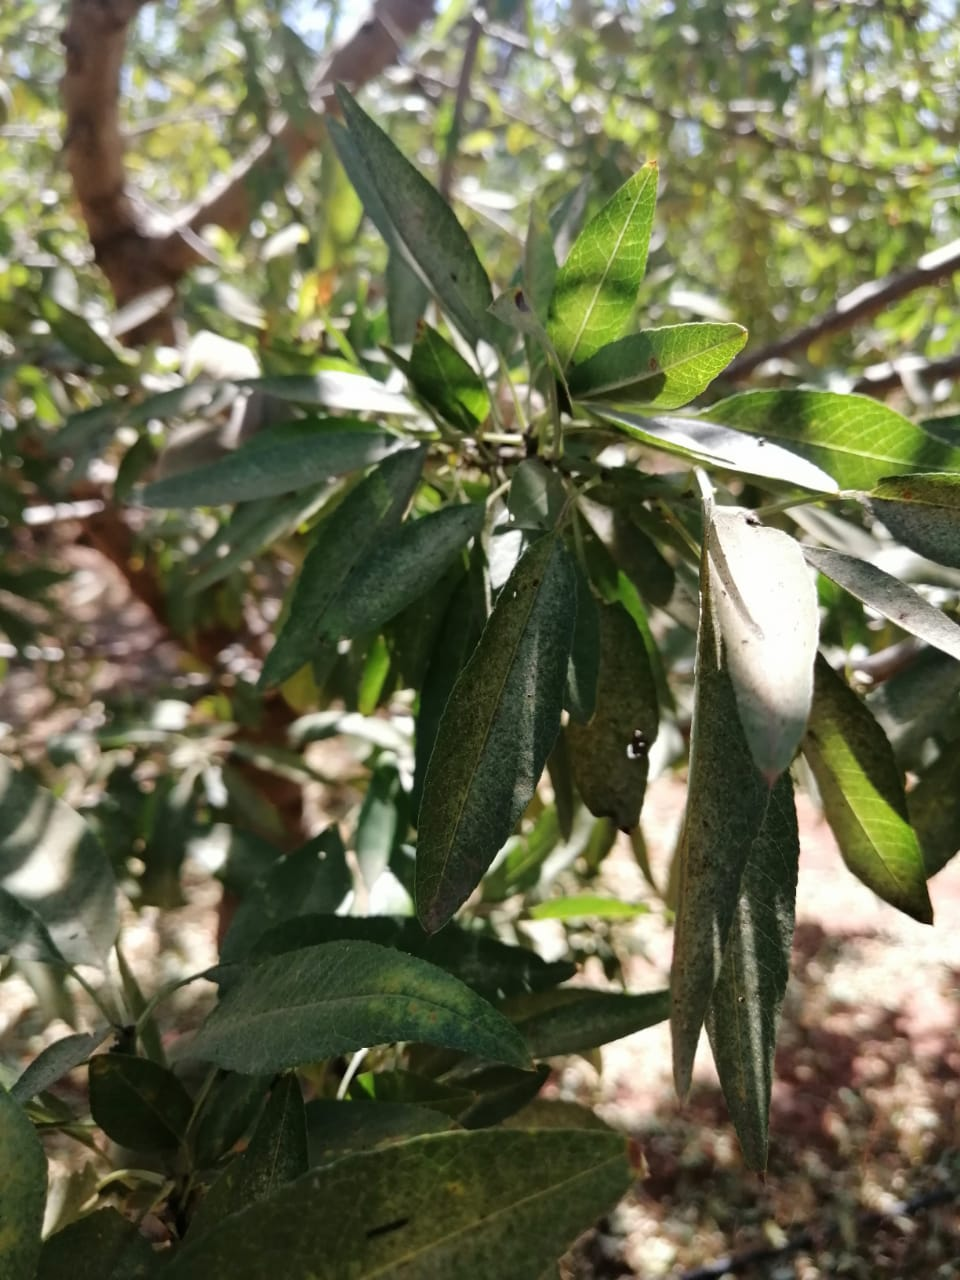acariens: (149, 1125, 659, 1280), (414, 533, 579, 935), (671, 569, 776, 1106), (334, 76, 503, 348), (309, 498, 488, 653)
